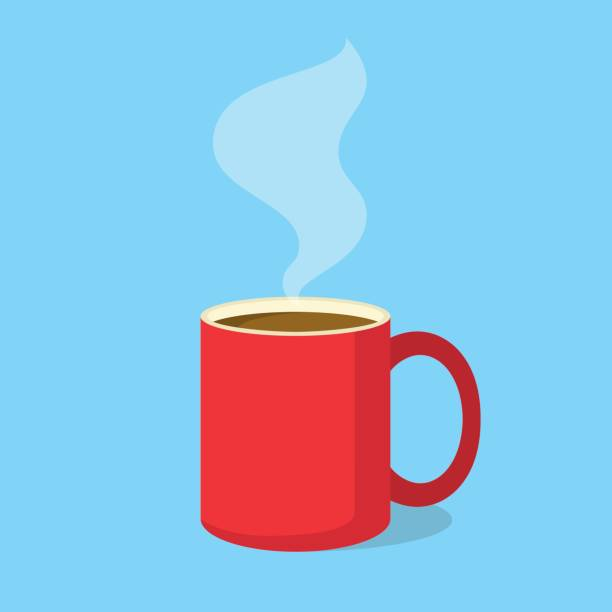cup: (176, 272, 491, 561)
